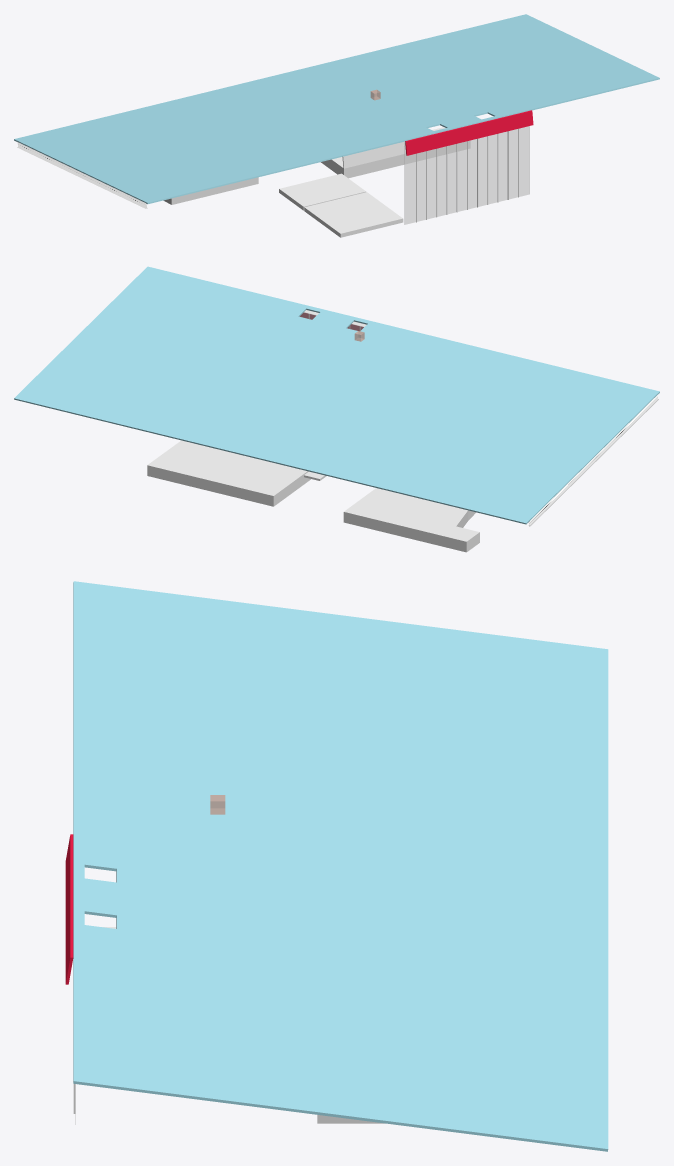
File: ccg-from-floor-2.glb
3 views of the same model, one above another, from view 1: azimuth 30°, elevation 25°; view 2: azimuth 150°, elevation 25°; view 3: azimuth 270°, elevation 25° (orthographic). The views are drawn at different scales.
Visible parts, largest first — view 1: IFC IfcSlab 17529, IFC IfcWall 6412, IFC IfcSlab 27966, IFC IfcWall 1263, IFC IfcSlab 27943, IFC IfcSlab 488, IFC IfcBeam 17137, IFC IfcWall 29529, IFC IfcSlab 24389; view 2: IFC IfcSlab 17529, IFC IfcSlab 488, IFC IfcSlab 24389, IFC IfcBeam 17137; view 3: IFC IfcSlab 17529, IFC IfcWall 1263.
Boxes of the visible parts, x1,y1,x2,y2 form: IFC IfcSlab 17529: (14,14,659,204); IFC IfcWall 6412: (404,126,529,224); IFC IfcSlab 27966: (304,192,403,237); IFC IfcWall 1263: (405,110,533,155); IFC IfcSlab 27943: (279,173,366,210); IFC IfcSlab 488: (321,127,470,178); IFC IfcBeam 17137: (17,142,147,208); IFC IfcWall 29529: (342,142,405,168); IFC IfcSlab 24389: (163,177,258,204); IFC IfcSlab 17529: (14,266,659,524); IFC IfcSlab 488: (147,440,310,506); IFC IfcSlab 24389: (343,488,479,552); IFC IfcBeam 17137: (528,394,658,526); IFC IfcSlab 17529: (73,581,608,1151); IFC IfcWall 1263: (65,834,73,984).
Bounding box in the file's own units: 40.14 × 7.9 × 18.39.
